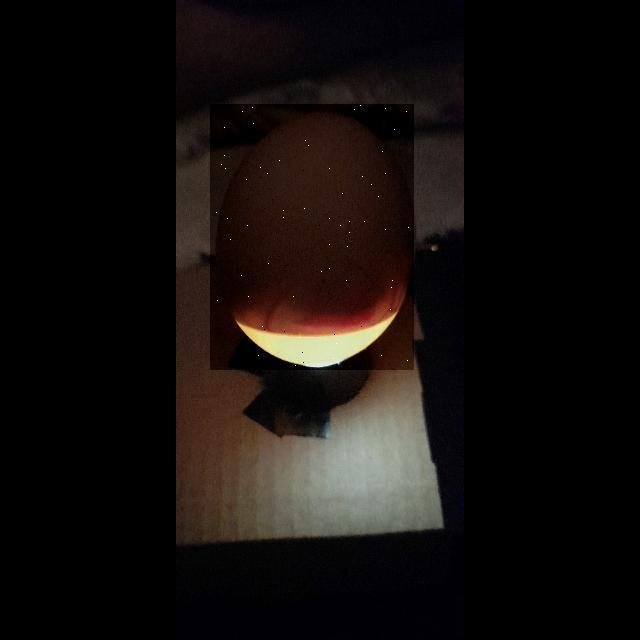Fertile: (210, 104, 414, 370)
